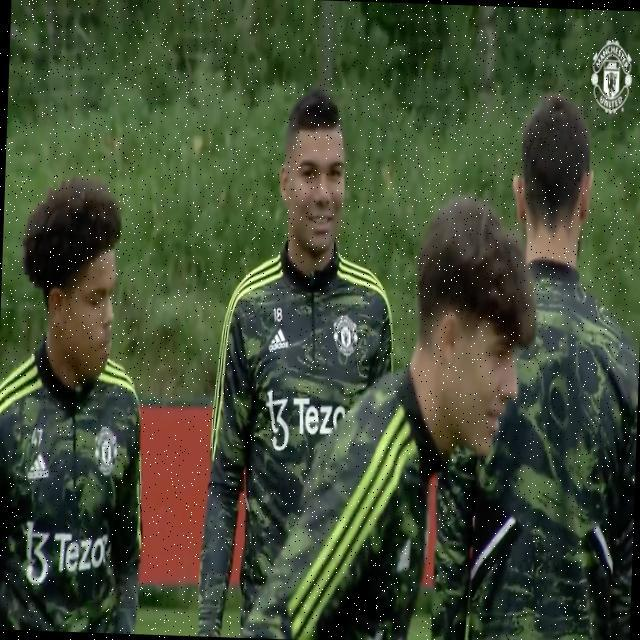Adidas: (27, 450, 50, 481), (268, 327, 290, 355)
